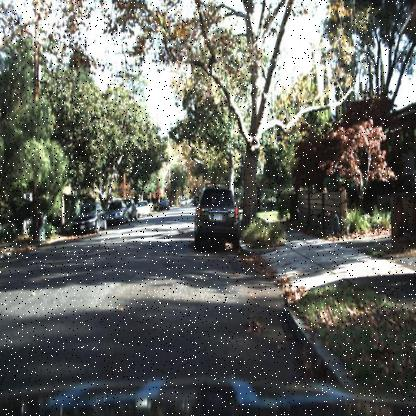car: (187, 184, 245, 254), (193, 181, 239, 251), (65, 191, 106, 244), (71, 196, 109, 240), (103, 193, 128, 228), (125, 190, 141, 224), (136, 197, 152, 220), (156, 196, 170, 214)
